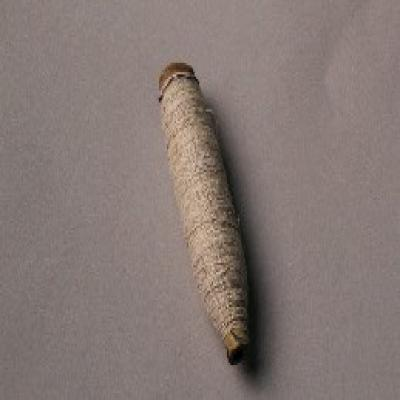technique: (158, 60, 250, 367)
